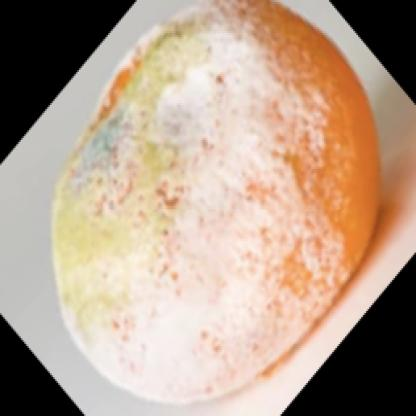rotten: (55, 1, 382, 404)
